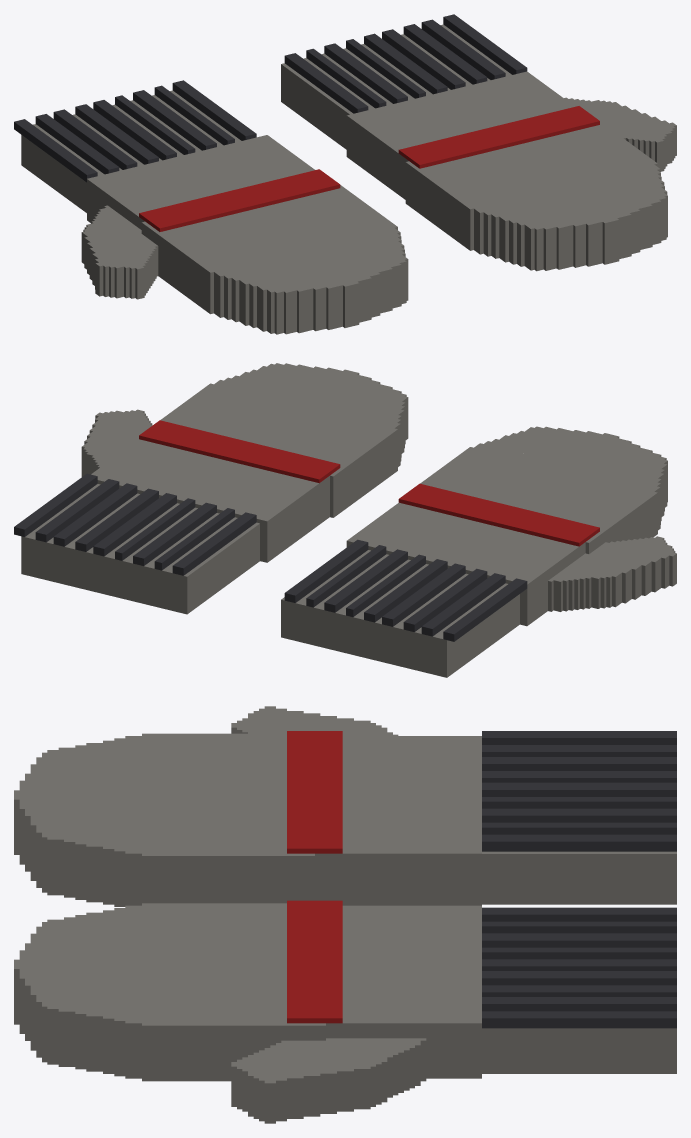
File: mittens.glb
The picture shows the model from 3 angles, top to bottom: view 1: azimuth 30°, elevation 25°; view 2: azimuth 150°, elevation 25°; view 3: azimuth 270°, elevation 25°; orthographic projection. The views are drawn at different scales.
Visible parts, largest first — view 1: mittens:compound; view 2: mittens:compound; view 3: mittens:compound.
Boxes of the visible parts, x1,y1,x2,y2 form: mittens:compound: (14, 14, 676, 334); mittens:compound: (14, 363, 676, 677); mittens:compound: (14, 706, 676, 1123).
Bounding box in the file's own units: 0.32 × 0.024 × 0.238.
